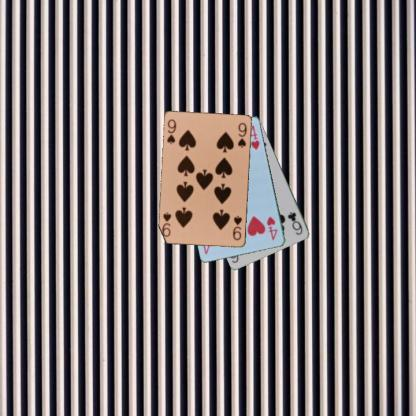4h: (264, 214, 279, 241)
6c: (285, 209, 304, 236)
9s: (230, 213, 243, 242), (165, 117, 177, 145)
